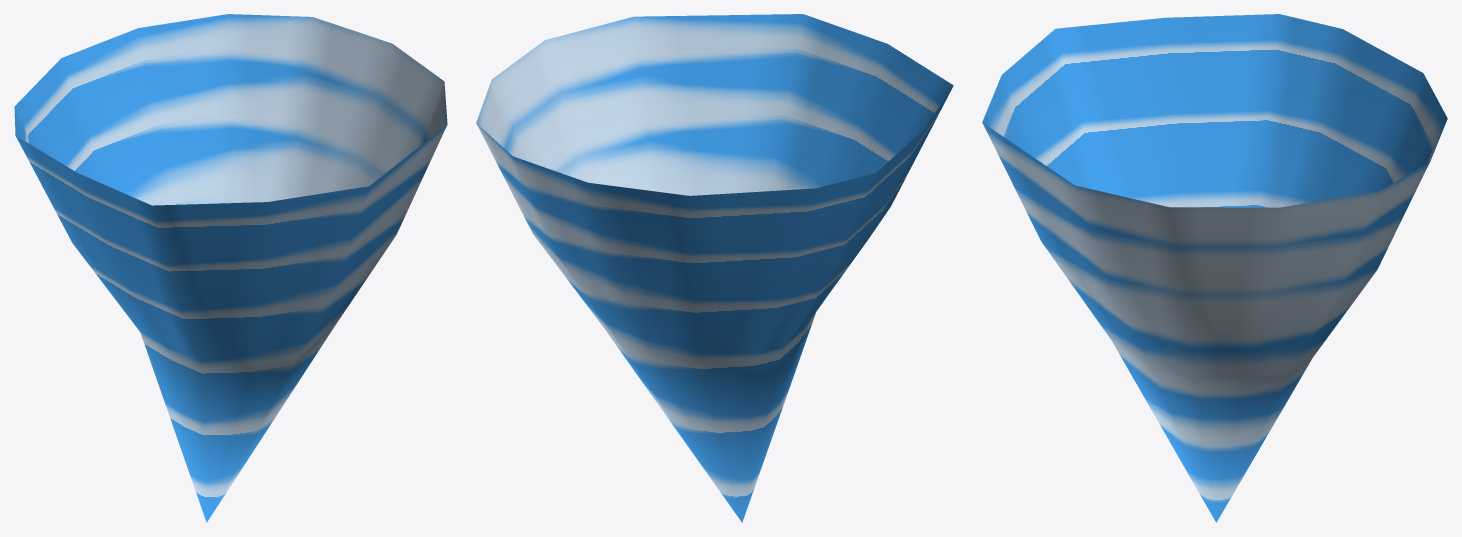
Rendered from Model-Tornado.obj.
3 views of the same model, side by side, from view 1: azimuth 30°, elevation 25°; view 2: azimuth 150°, elevation 25°; view 3: azimuth 270°, elevation 25° (orthographic). The views are drawn at different scales.
Visible parts, largest first — view 1: texture; view 2: texture; view 3: texture.
Part boxes in pixels (bbox=[...]): texture: bbox=[14, 14, 447, 522]; texture: bbox=[476, 14, 953, 522]; texture: bbox=[982, 14, 1447, 522].
Bounding box in the file's own units: 28.57 × 29.37 × 29.02.
Materials: 1 (1 with a texture image).
